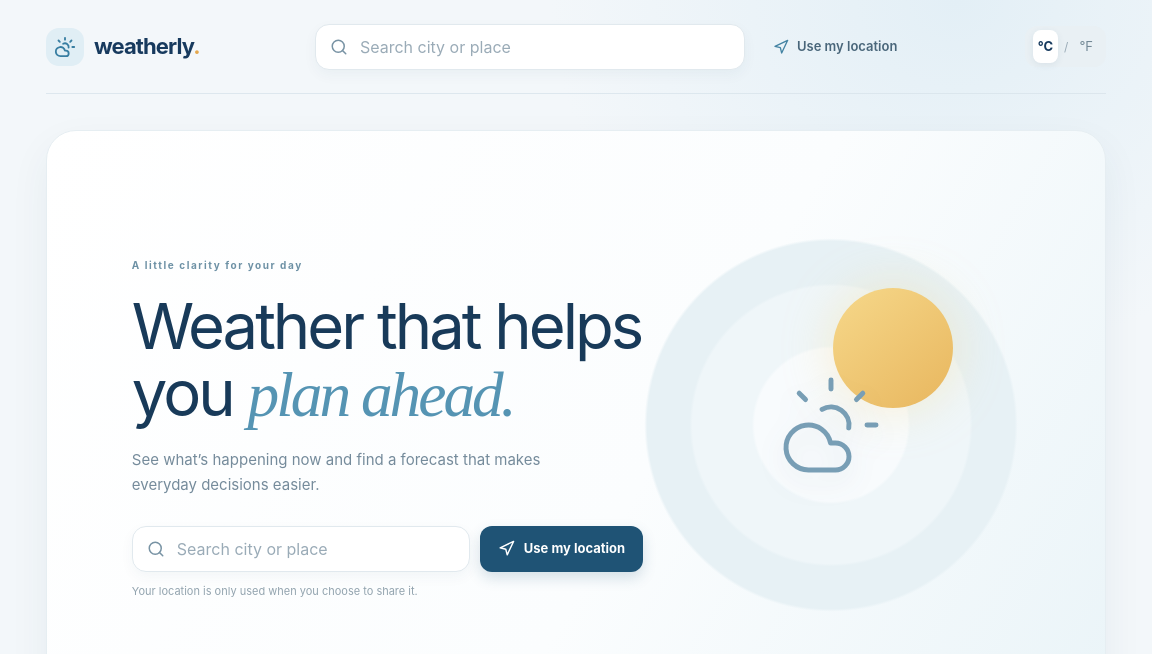
Weatherly first-use and search flow › saves and removes a selected city
The image size is (1152, 654).
Later steps or results of the test are not shown.
Type "Noida" into the field named "Search for a city". click: (530, 46)
box: [315, 24, 745, 70]
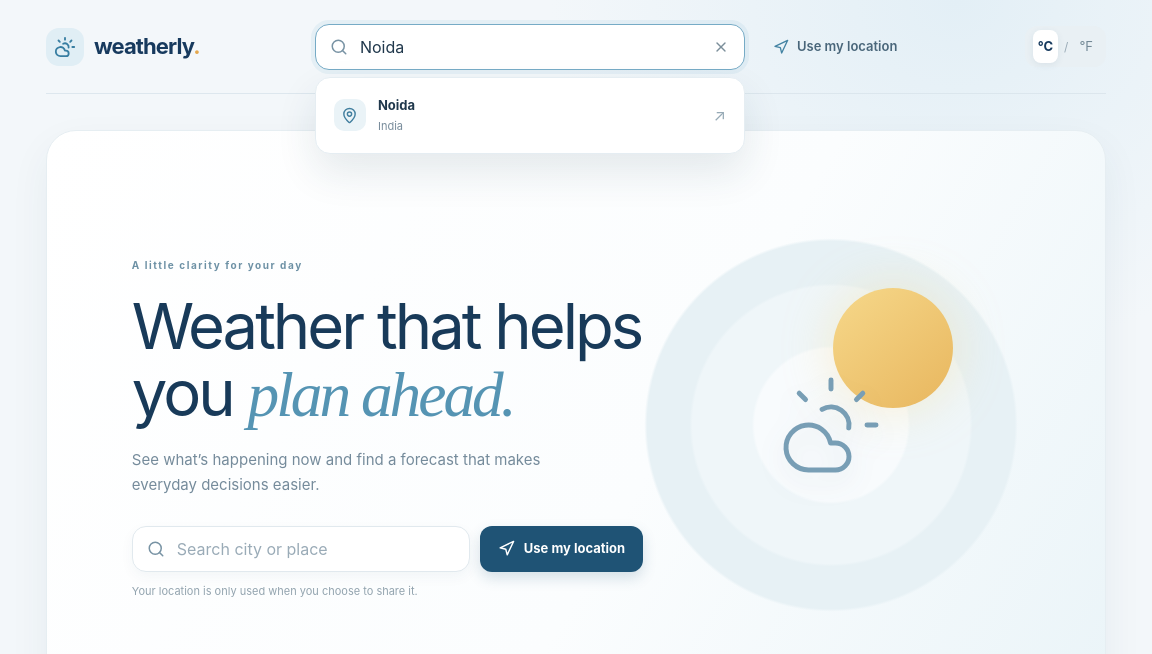
Click the option "Noida India ↗". click: (350, 115)
box: [323, 84, 737, 146]
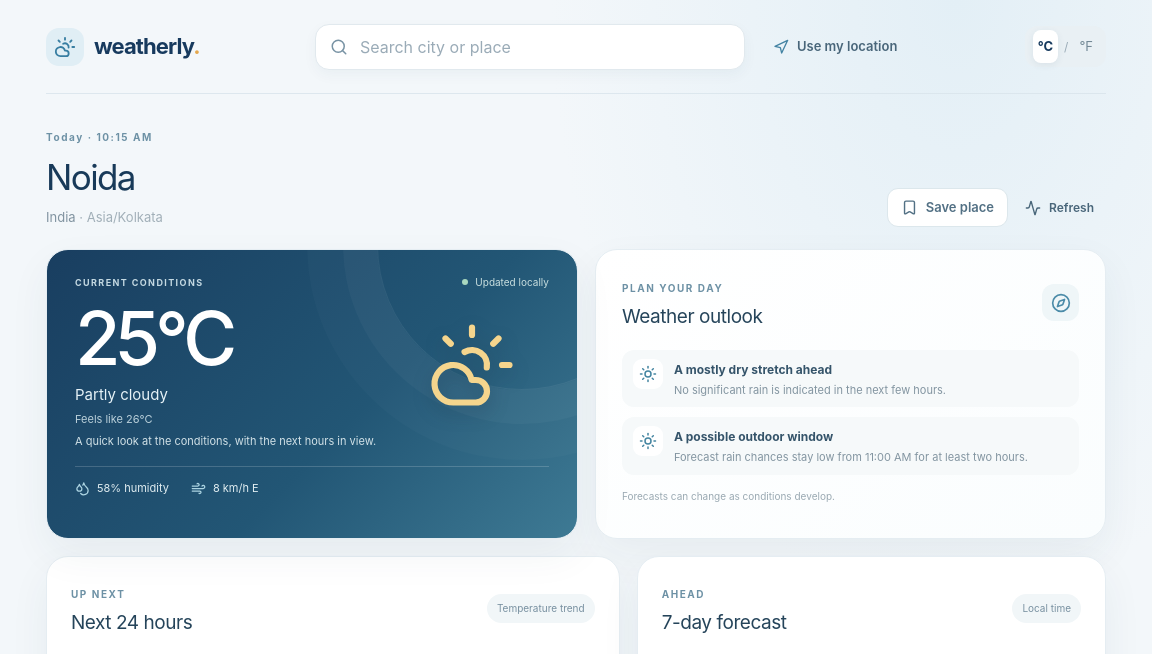
Result: the heading "Weather outlook" is shown at [622, 303, 762, 332]
Click the button with aria-label "Save location". click: (947, 208)
box: [887, 188, 1008, 227]
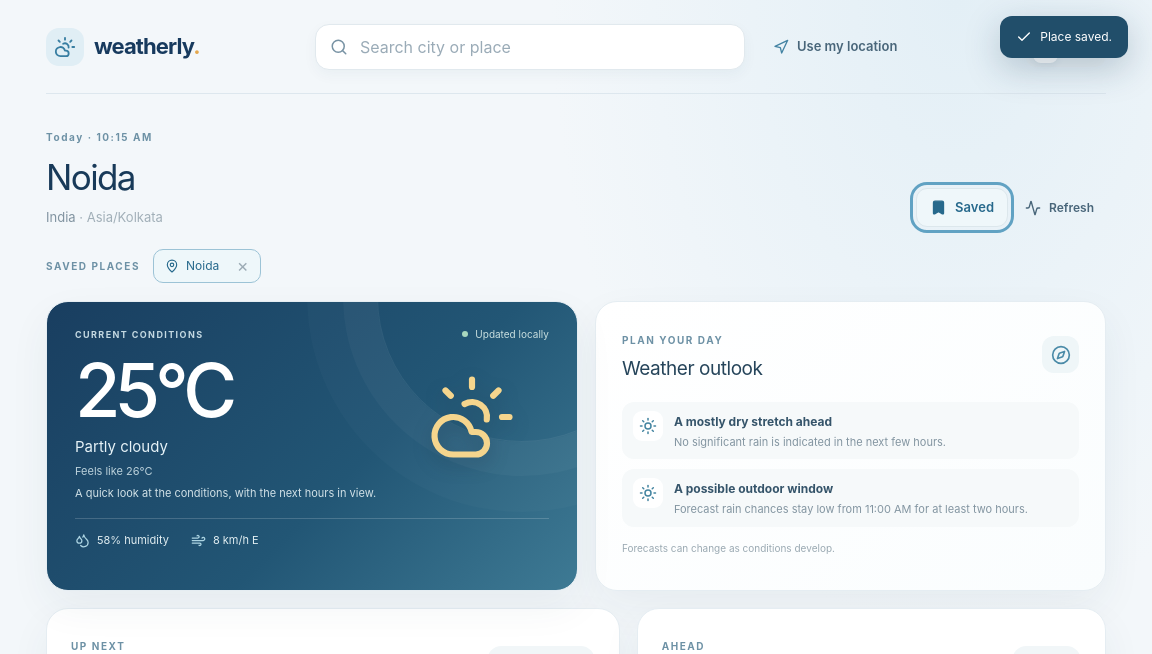
Result: the button named "Remove Noida from saved places" is shown at [230, 252, 255, 280]
